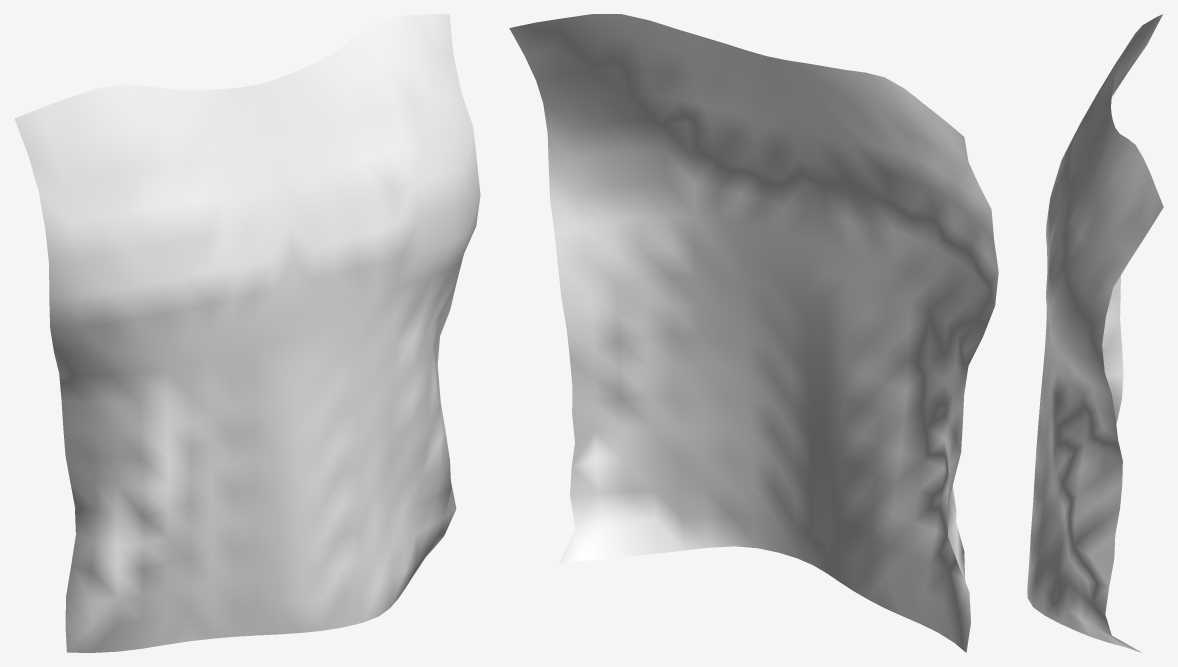
File: t-shirt1.obj
3 renders of one model, left to right at view 1: azimuth 30°, elevation 25°; view 2: azimuth 150°, elevation 25°; view 3: azimuth 270°, elevation 25°, orthographic. The views are drawn at different scales.
Parts seen in each view (by area): view 1: T_Shirt_male; view 2: T_Shirt_male; view 3: T_Shirt_male.
Part boxes in pixels (bbox=[...]): T_Shirt_male: bbox=[14, 14, 480, 652]; T_Shirt_male: bbox=[509, 14, 998, 652]; T_Shirt_male: bbox=[1027, 14, 1163, 652].
Bounding box in the file's own units: 23.71 × 28.27 × 7.15.
Materials: 1 (1 with a texture image).
